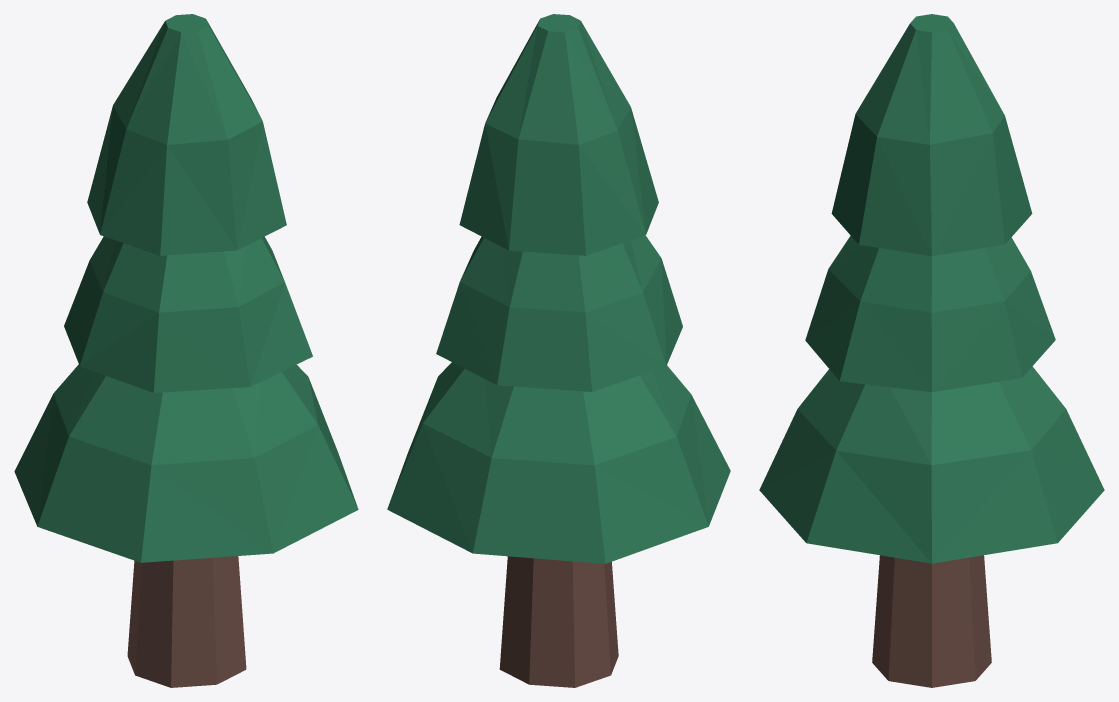
Rendered from drzewo_5.fbx.
3 renders of one model, left to right at view 1: azimuth 30°, elevation 25°; view 2: azimuth 150°, elevation 25°; view 3: azimuth 270°, elevation 25°, orthographic.
Parts seen in each view (by area): view 1: Cube.008; view 2: Cube.008; view 3: Cube.008.
Boxes of the visible parts, x1,y1,x2,y2 form: Cube.008: [14, 14, 358, 687]; Cube.008: [387, 14, 730, 687]; Cube.008: [759, 14, 1104, 687].
Size of the model in its own units: 1266 by 2571 by 1259.
